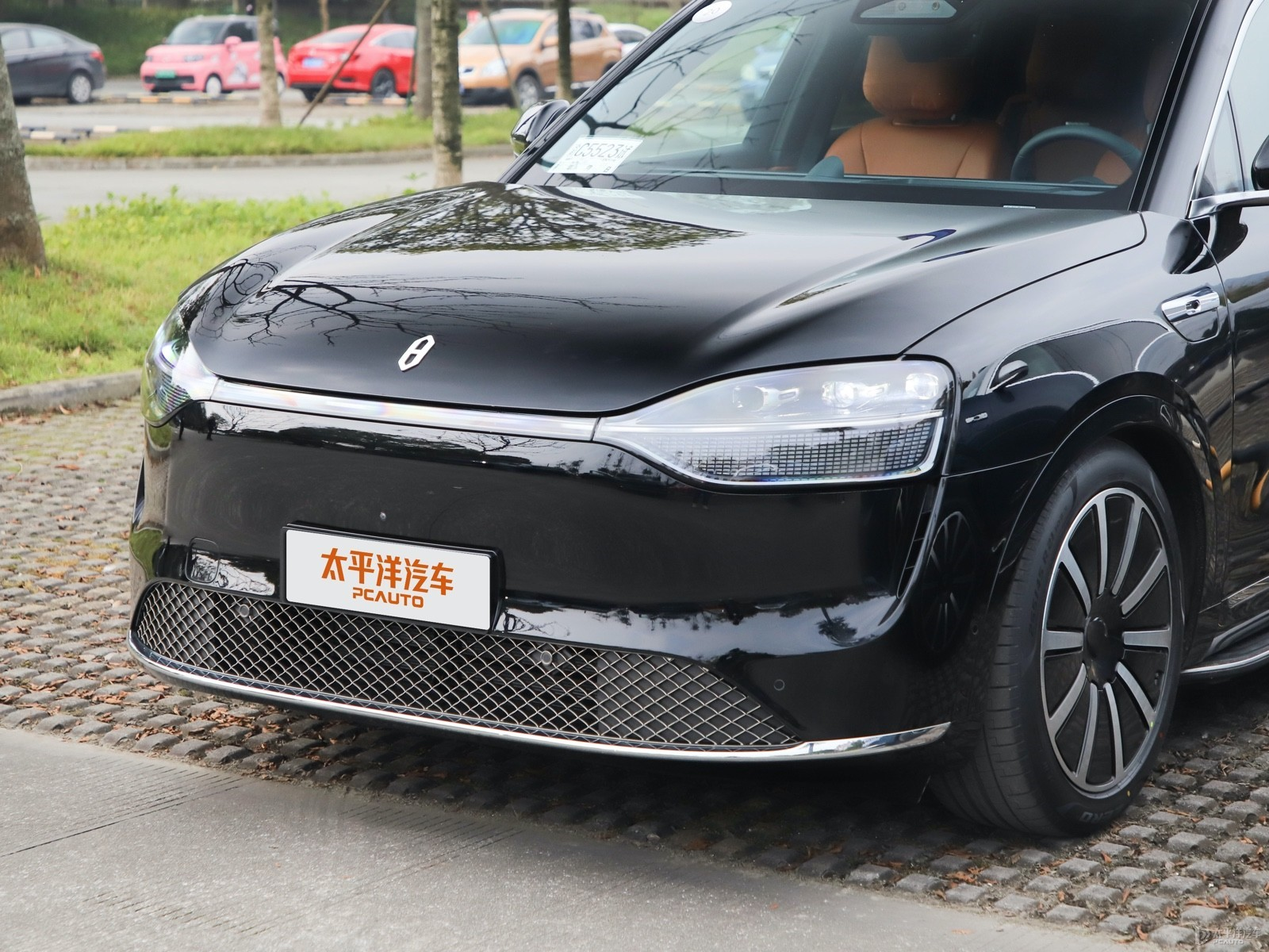AITO: (399, 335, 435, 371)
